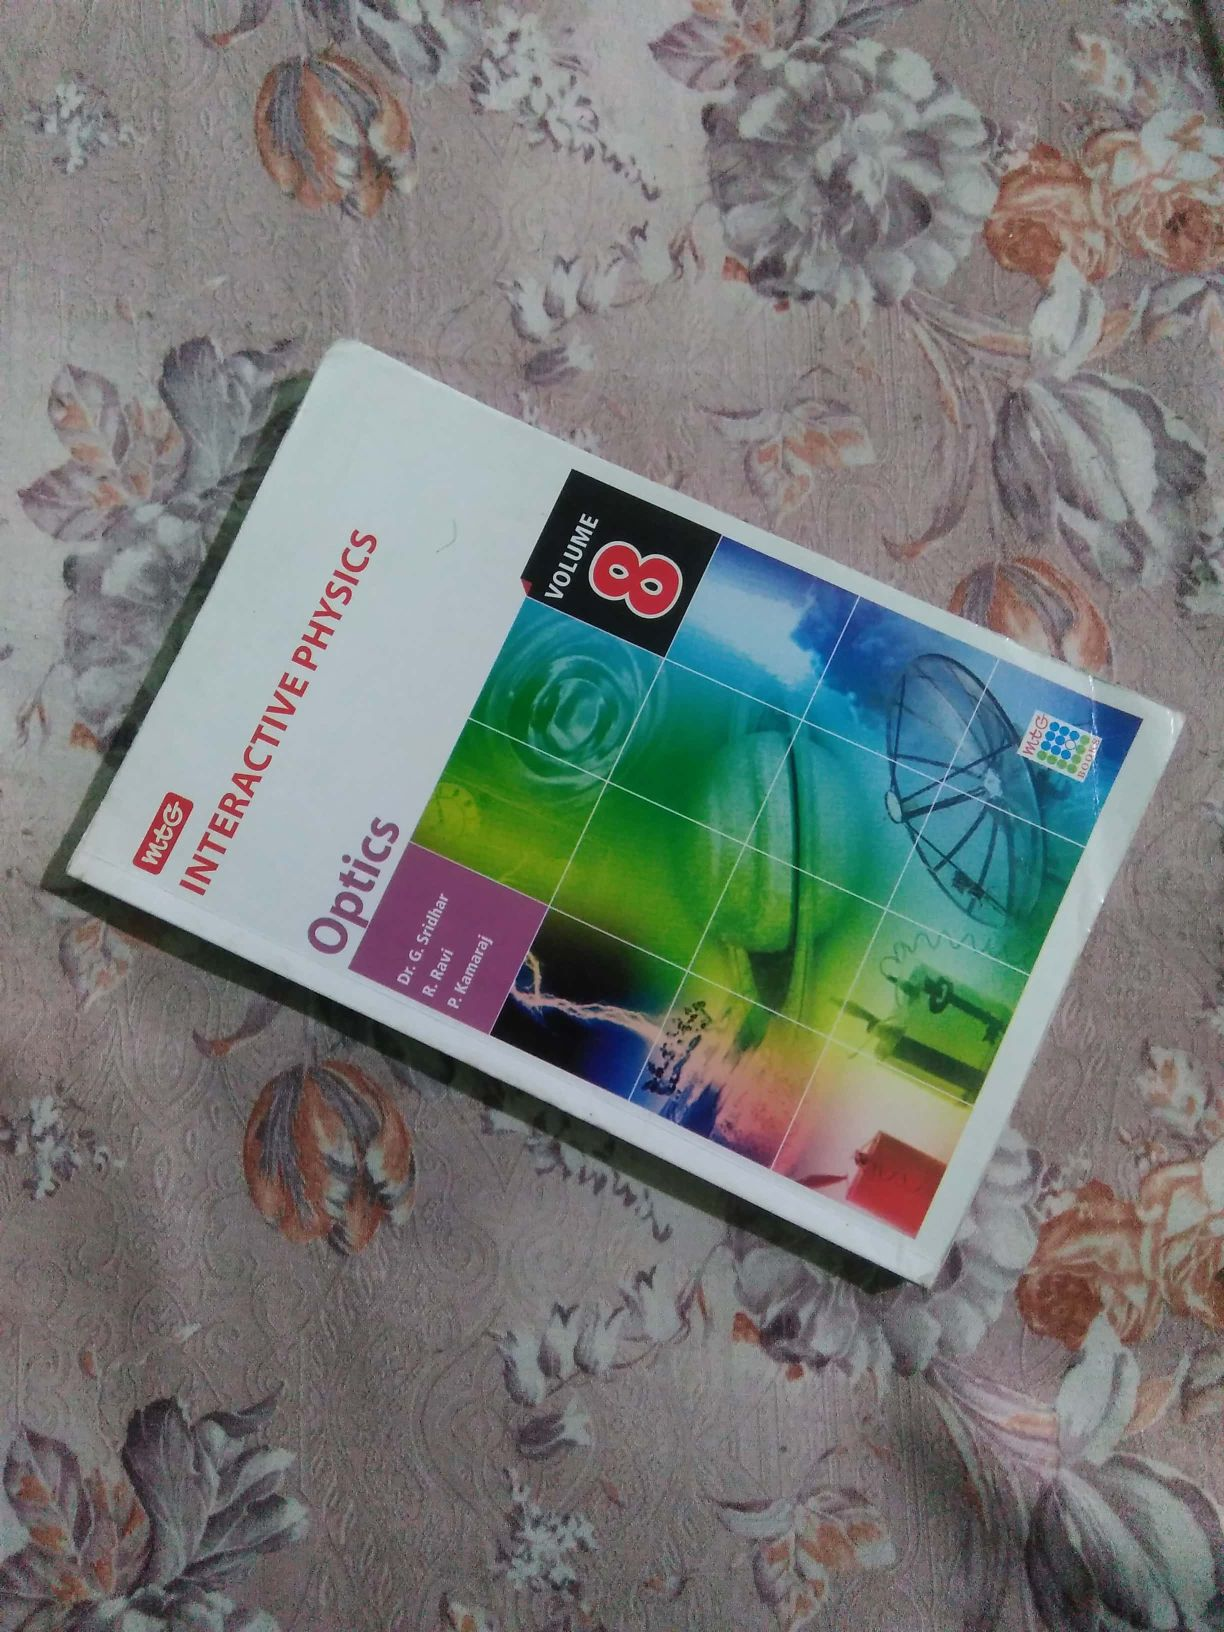optics: (81, 315, 1164, 1358)
